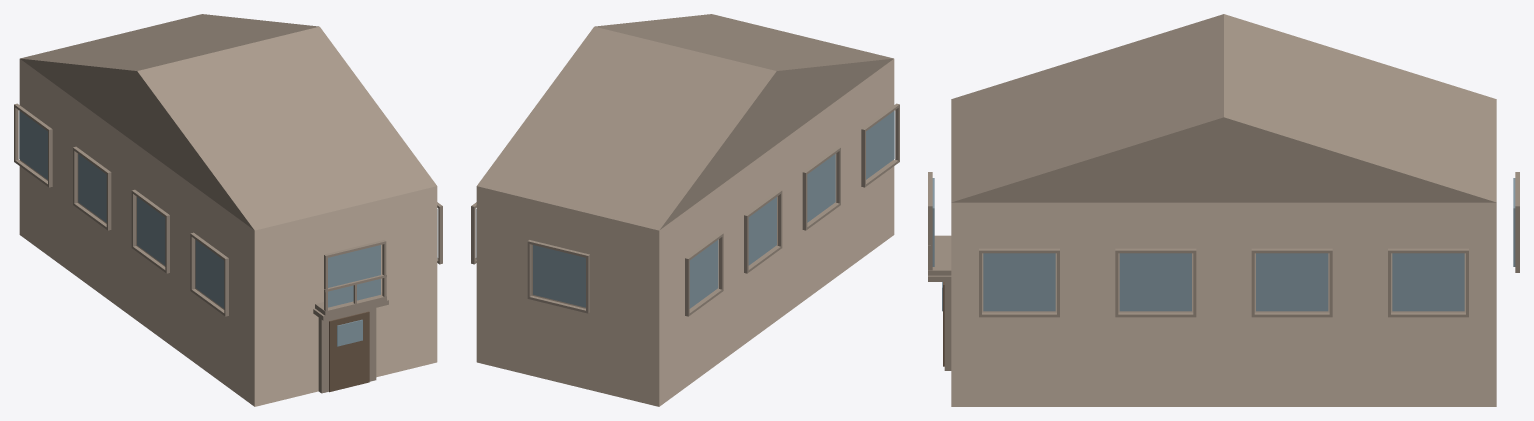
File: residential_1x2_a.glb
3 views of the same model, side by side, from view 1: azimuth 30°, elevation 25°; view 2: azimuth 150°, elevation 25°; view 3: azimuth 270°, elevation 25° (orthographic). The views are drawn at different scales.
Parts seen in each view (by area): view 1: residential_1x2_a_0; view 2: residential_1x2_a_0; view 3: residential_1x2_a_0.
Boxes of the visible parts, left/top/right/bottom form: residential_1x2_a_0: left=14, top=14, right=442, bottom=406; residential_1x2_a_0: left=471, top=14, right=899, bottom=406; residential_1x2_a_0: left=928, top=14, right=1519, bottom=406.
Bounding box in the file's own units: 7.74 × 8.5 × 15.74.
